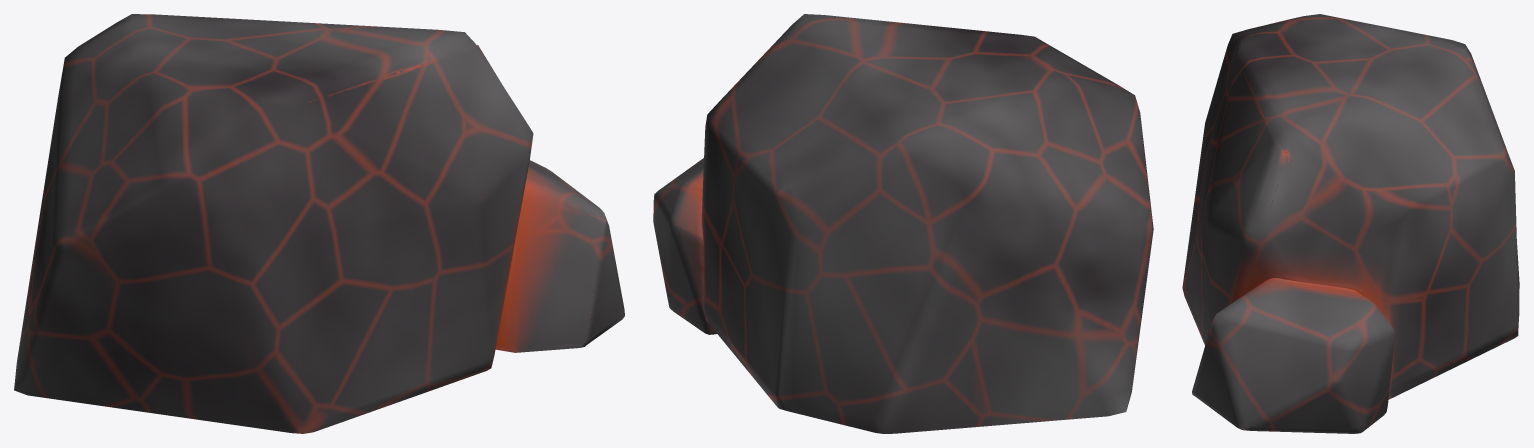
Rendered from Volcan_Roche.fbx.
The picture shows the model from 3 angles, left to right: view 1: azimuth 30°, elevation 25°; view 2: azimuth 150°, elevation 25°; view 3: azimuth 270°, elevation 25°; orthographic projection. The views are drawn at different scales.
Visible parts, largest first — view 1: Volcan_Roche; view 2: Volcan_Roche; view 3: Volcan_Roche.
Part boxes in pixels (x1=…): Volcan_Roche: x1=14, y1=14, x2=624, y2=433; Volcan_Roche: x1=653, y1=14, x2=1153, y2=433; Volcan_Roche: x1=1182, y1=14, x2=1519, y2=433.
Size of the model in its own units: 915 by 532 by 608.
1 material, 1 textured.
